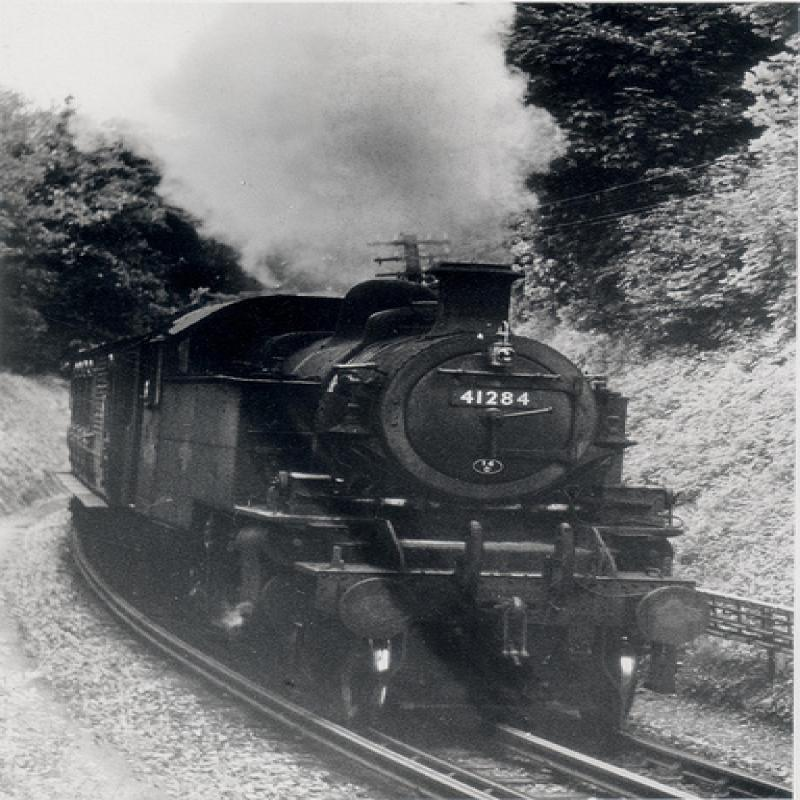train: (53, 262, 714, 729)
